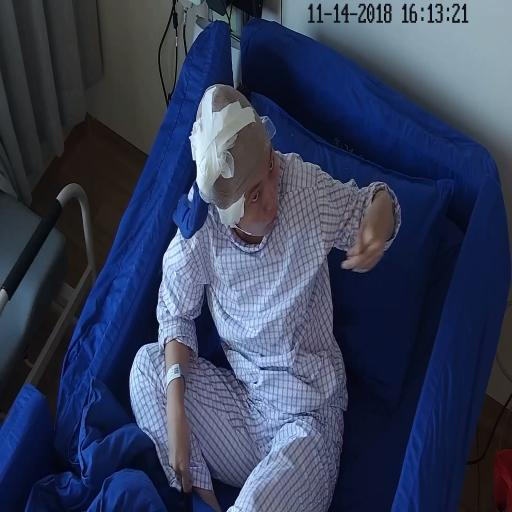Seizure: (198, 103, 290, 238)
